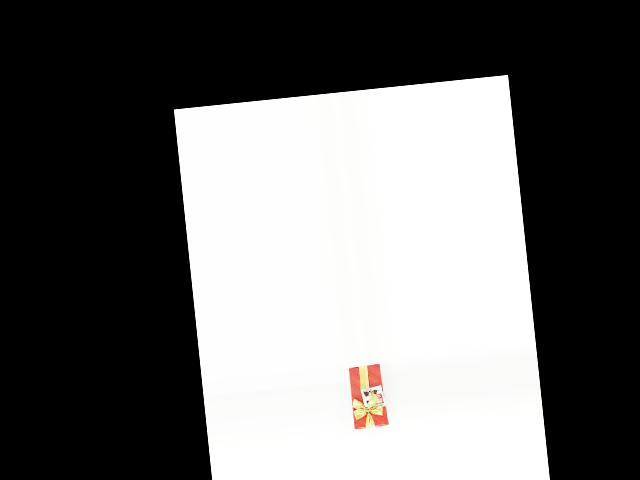chocolate: (345, 364, 388, 432)
